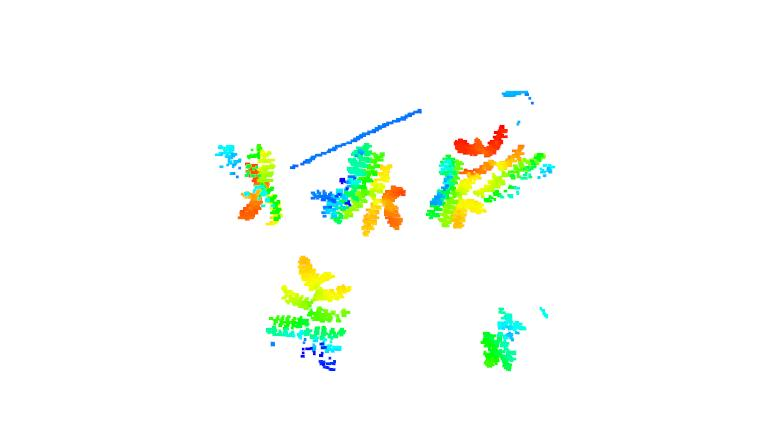chickpea: (265, 254, 354, 373), (307, 143, 407, 236), (452, 121, 556, 206), (217, 139, 284, 227), (424, 154, 487, 231), (479, 306, 525, 370)
